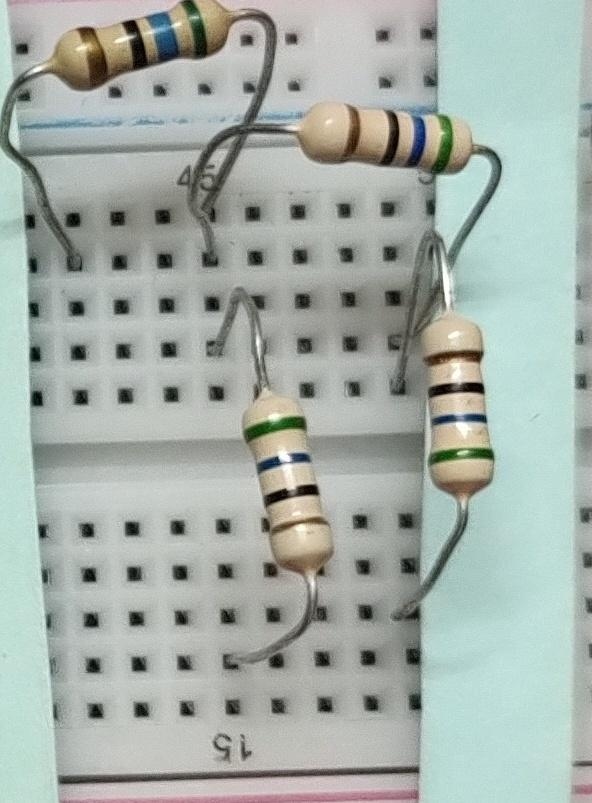resistor: (224, 365, 357, 598), (285, 84, 484, 218), (414, 292, 527, 526), (29, 0, 237, 96)
